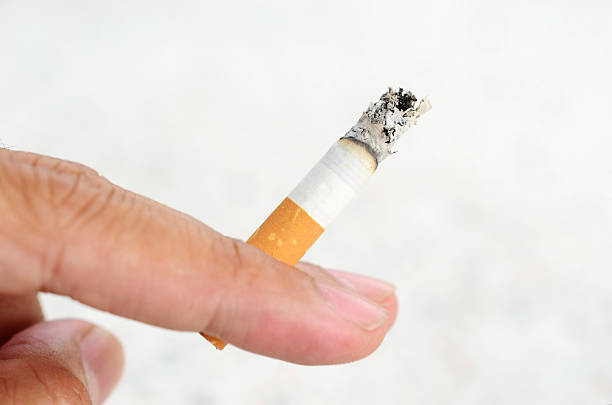cigarette: (198, 87, 428, 351)
